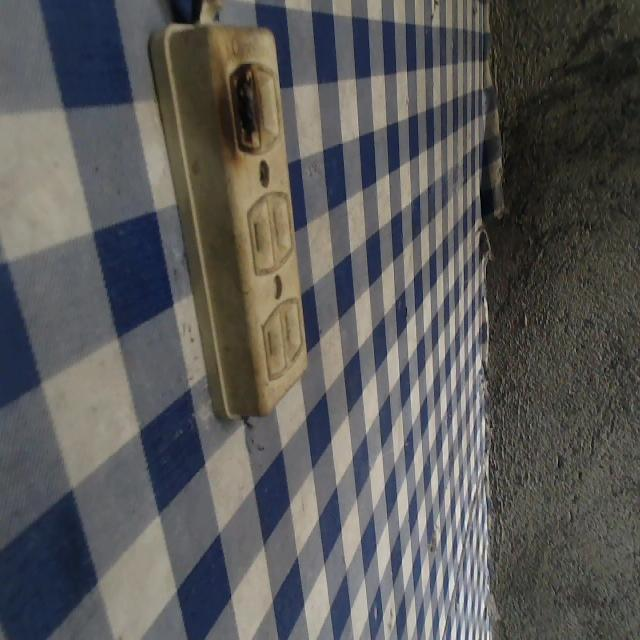-: (222, 55, 265, 160)
